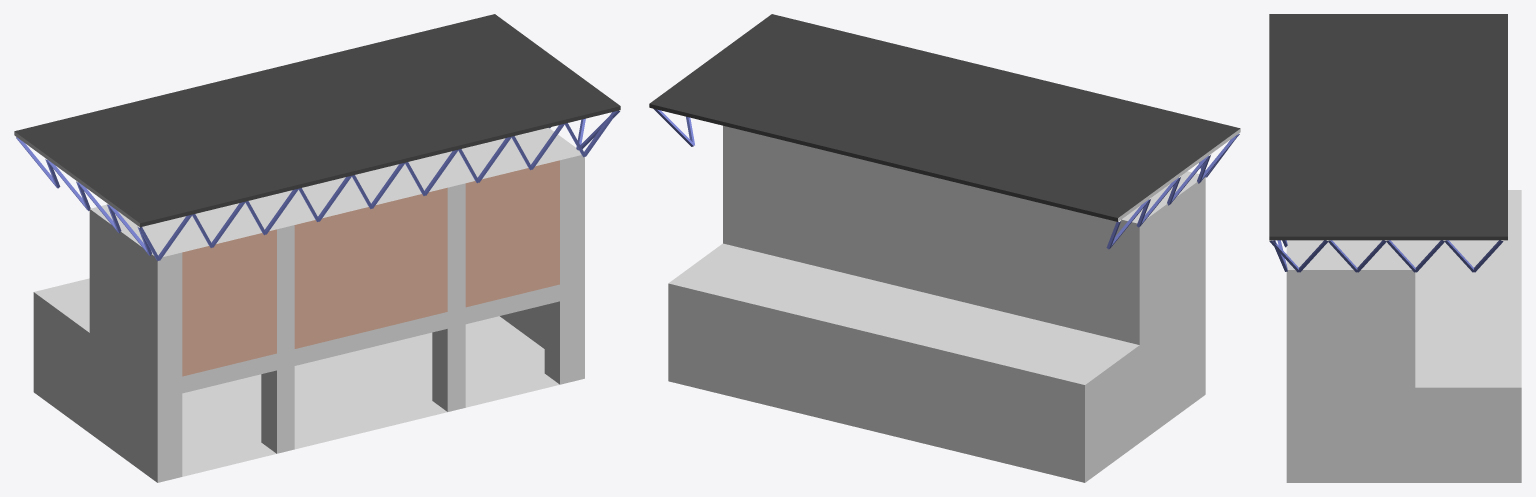
File: summerfest building.fbx
3 views of the same model, side by side, from view 1: azimuth 30°, elevation 25°; view 2: azimuth 150°, elevation 25°; view 3: azimuth 270°, elevation 25° (orthographic). The views are drawn at different scales.
Parts seen in each view (by area): view 1: Plane; view 2: Plane; view 3: Plane.
Boxes of the visible parts, <box> form: Plane: <box>14,14,620,482</box>; Plane: <box>649,14,1240,482</box>; Plane: <box>1269,14,1521,482</box>.
Size of the model in its own units: 449 by 243 by 215.
